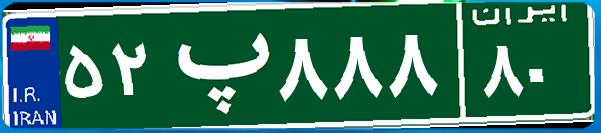0: (525, 38, 570, 115)
2: (110, 28, 158, 105)
5: (57, 26, 110, 107)
8: (385, 28, 445, 110), (273, 28, 330, 110), (330, 28, 385, 110), (475, 38, 525, 113)
پ: (158, 15, 273, 115)
